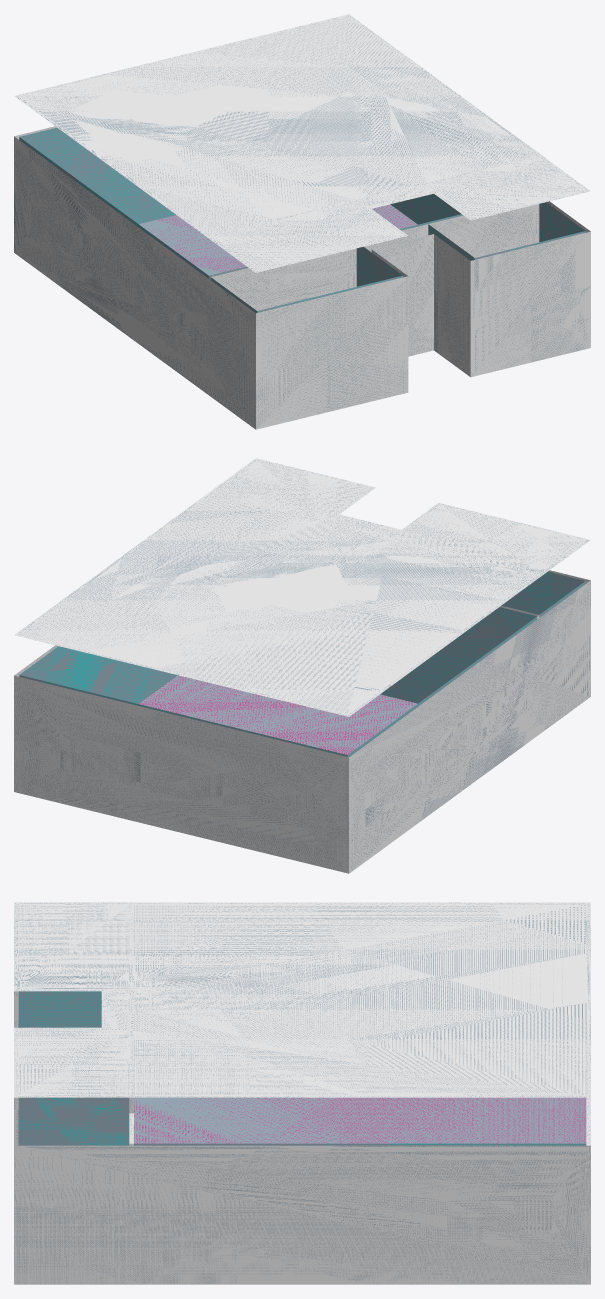
Rendered from LaboratorioConTecho.fbx.
3 renders of one model, top to bottom at view 1: azimuth 30°, elevation 25°; view 2: azimuth 150°, elevation 25°; view 3: azimuth 270°, elevation 25°, orthographic. The views are drawn at different scales.
Visible parts, largest first — view 1: Model, Group2, Group1; view 2: Model, Group2, Group1; view 3: Group2, Model, Group1.
Boxes of the visible parts, x1,y1,x2,y2 form: Model: [14, 126, 590, 429]; Group2: [14, 14, 590, 272]; Group1: [139, 204, 417, 275]; Model: [14, 570, 590, 873]; Group2: [14, 458, 590, 716]; Group1: [139, 675, 417, 754]; Group2: [14, 902, 590, 1097]; Model: [14, 991, 590, 1284]; Group1: [129, 1097, 586, 1143].
Size of the model in its own units: 10 by 4.47 by 12.5.
